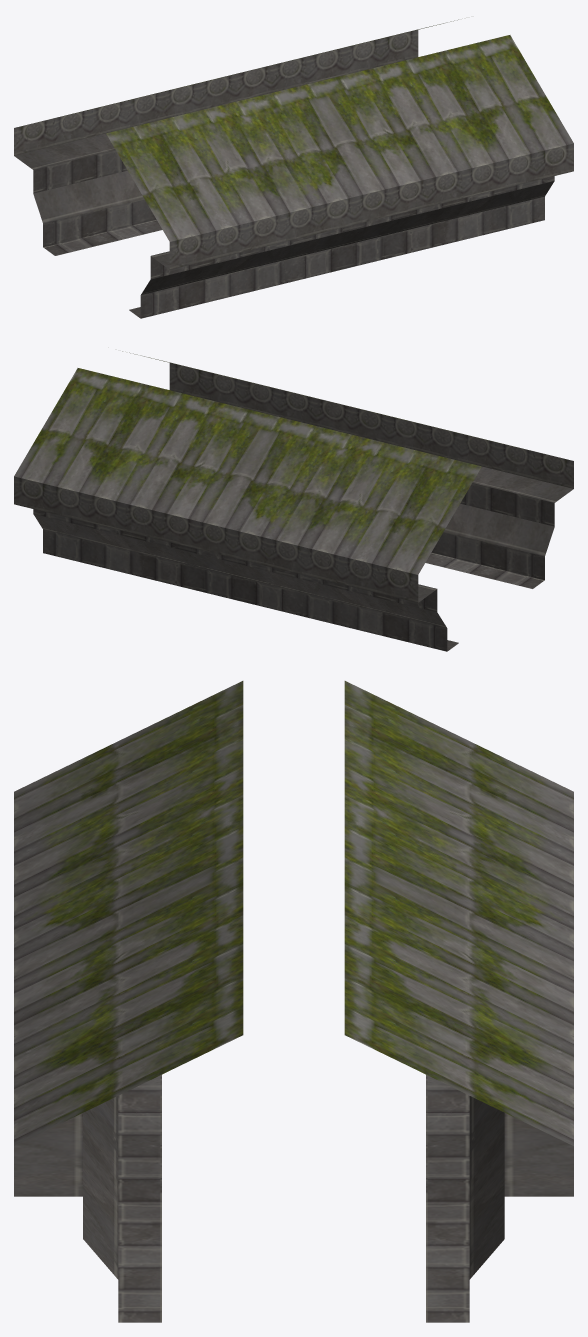
The model's file is b_zx_qiangbi01_02_01_lod1.FBX.
3 views of the same model, one above another, from view 1: azimuth 30°, elevation 25°; view 2: azimuth 150°, elevation 25°; view 3: azimuth 270°, elevation 25° (orthographic). The views are drawn at different scales.
Visible parts, largest first — view 1: b_zx_qiangbi01_02_01_lod1; view 2: b_zx_qiangbi01_02_01_lod1; view 3: b_zx_qiangbi01_02_01_lod1.
Part boxes in pixels (x1,y1,x2,y2): b_zx_qiangbi01_02_01_lod1: (14, 19, 573, 318); b_zx_qiangbi01_02_01_lod1: (14, 351, 573, 651); b_zx_qiangbi01_02_01_lod1: (14, 681, 573, 1322).
Size of the model in its own units: 3.95 by 1.49 by 2.64.
